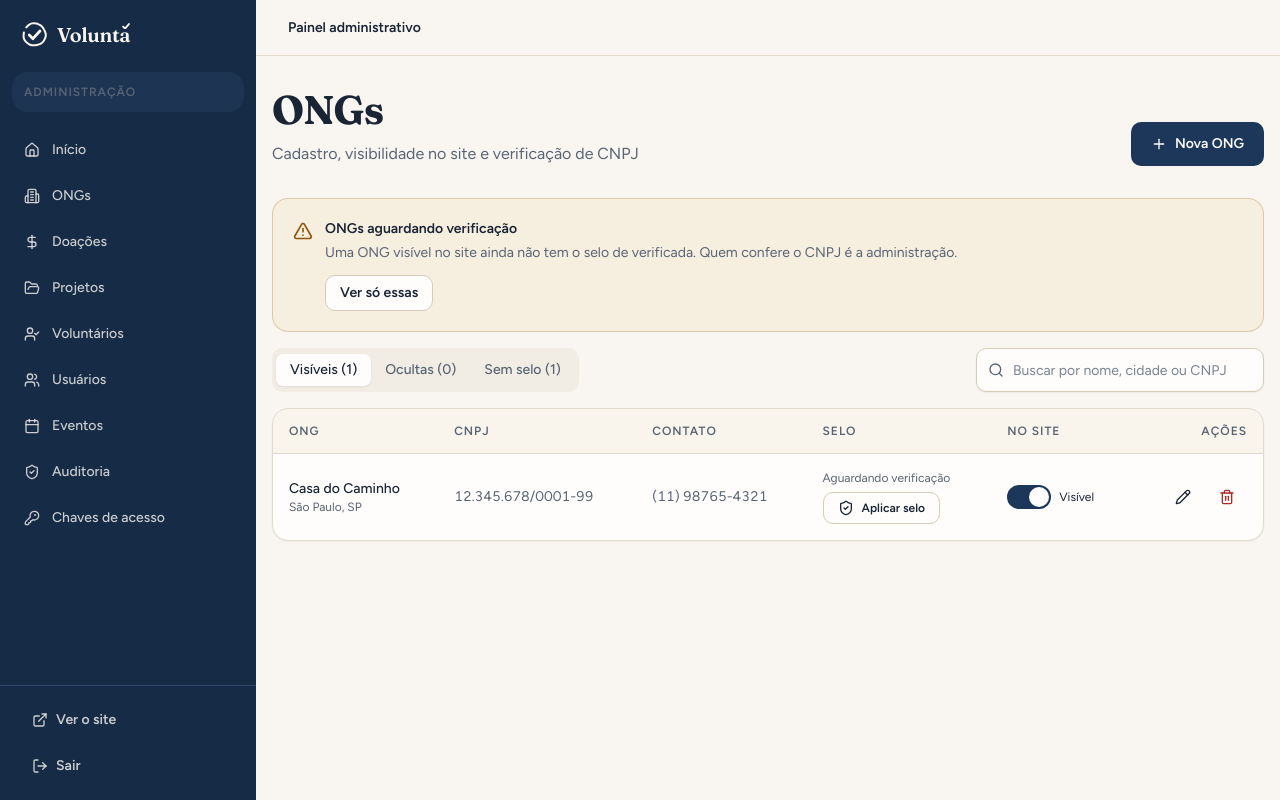
Test: AdminOngs › não oferece excluir enquanto ainda conta o que está ligado à ONG
Click the button named "Excluir Casa do Caminho": (1227, 497) [1207,477,1247,517]
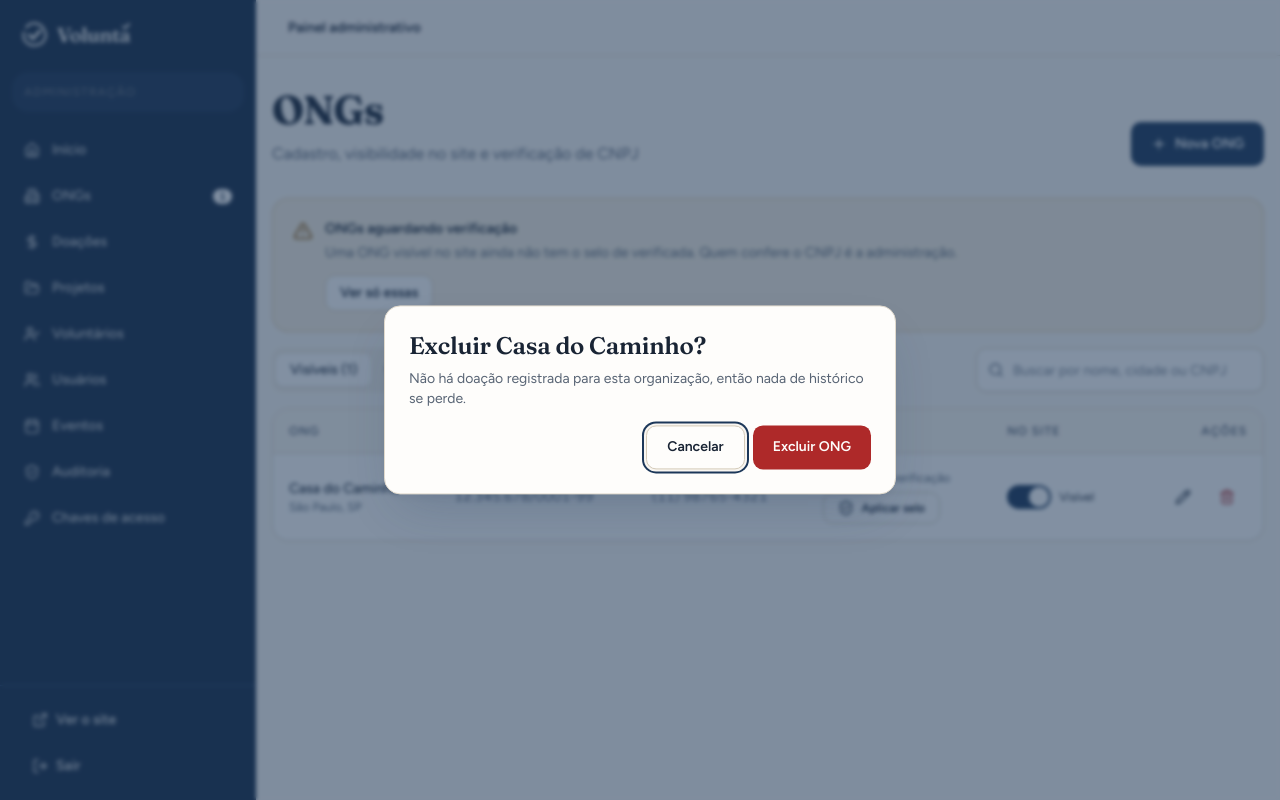
Check: the dialog is shown, box [384,305,896,495]
Check: the button named "Fechar" is shown, box [646,426,745,470]
Check: the button "Excluir ONG" is shown, box [753,426,871,470]
